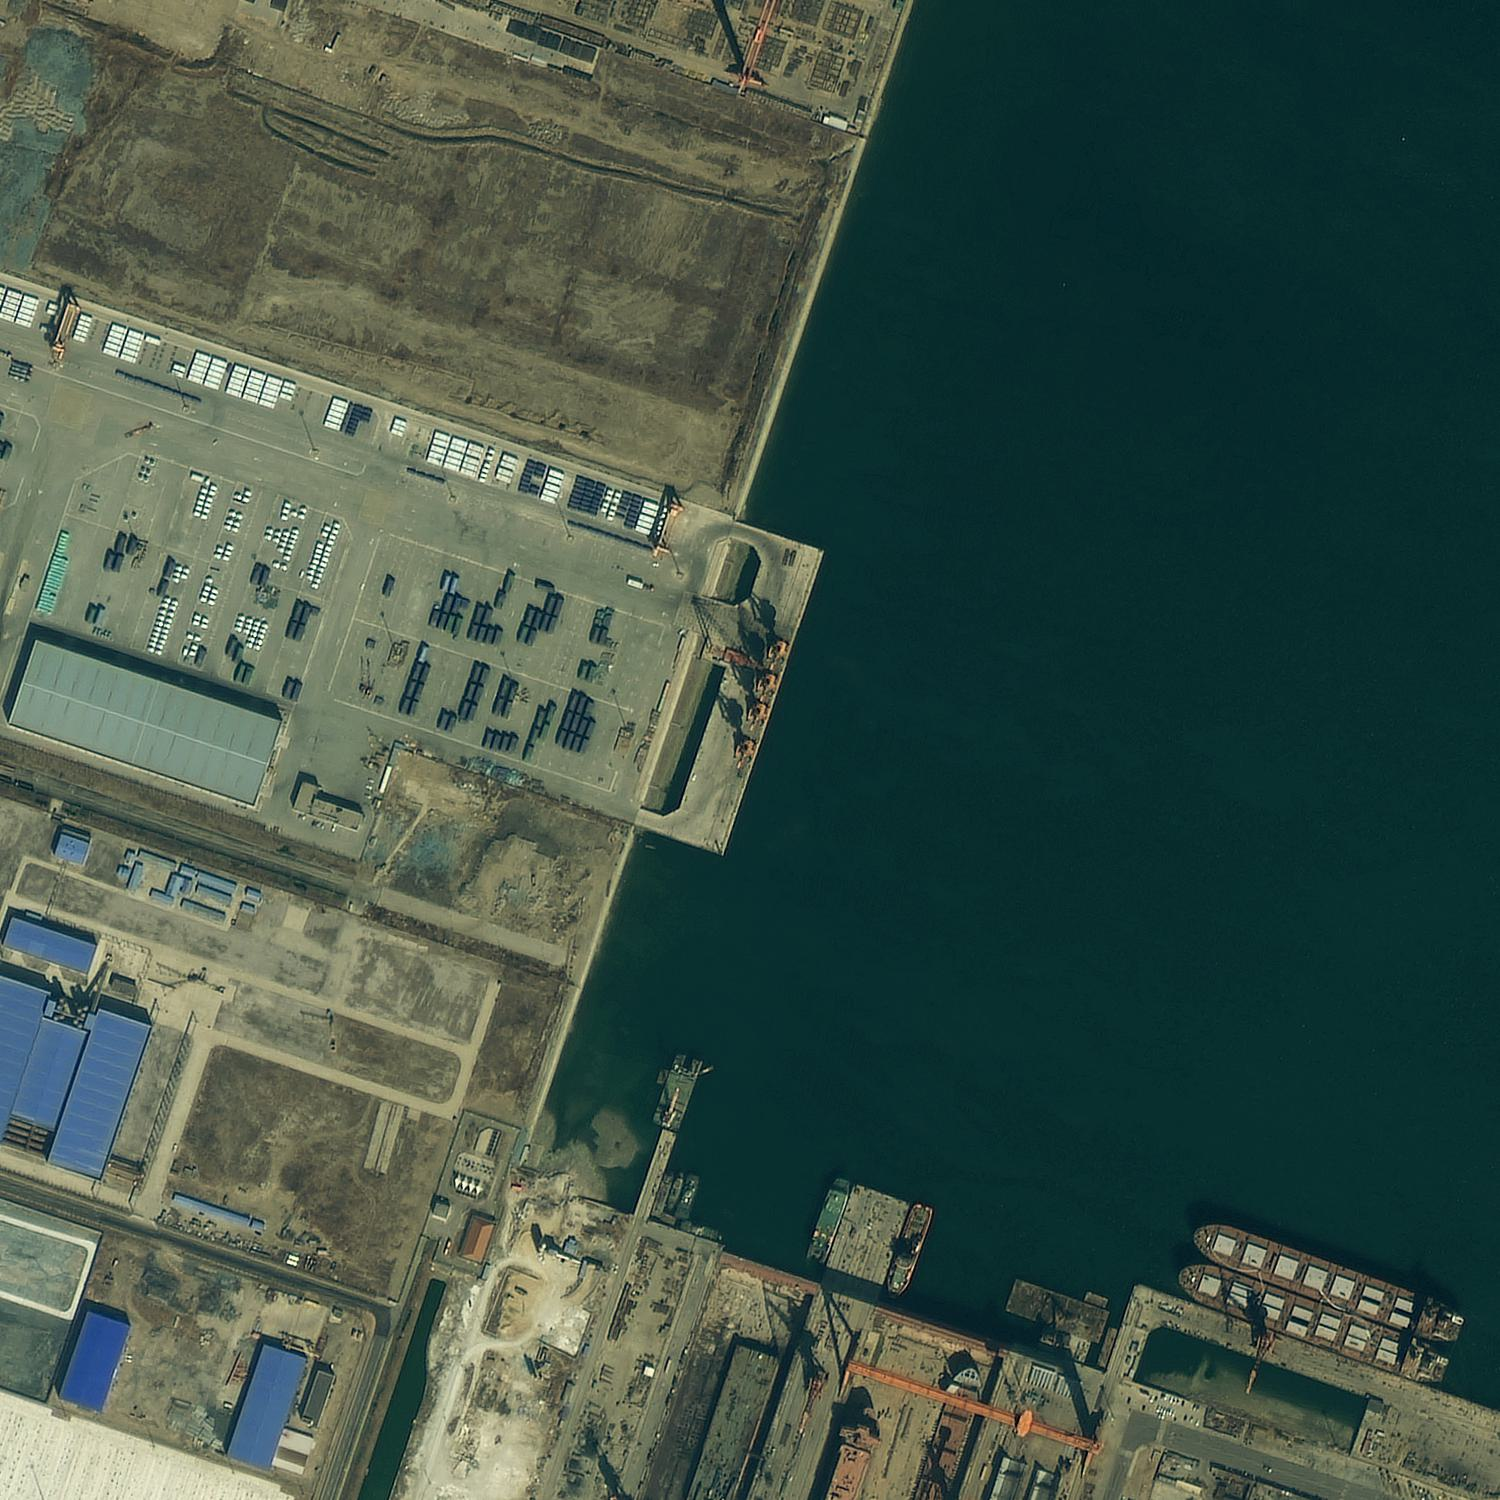A11: (187, 371, 346, 498), (140, 552, 280, 686), (248, 195, 383, 319)
